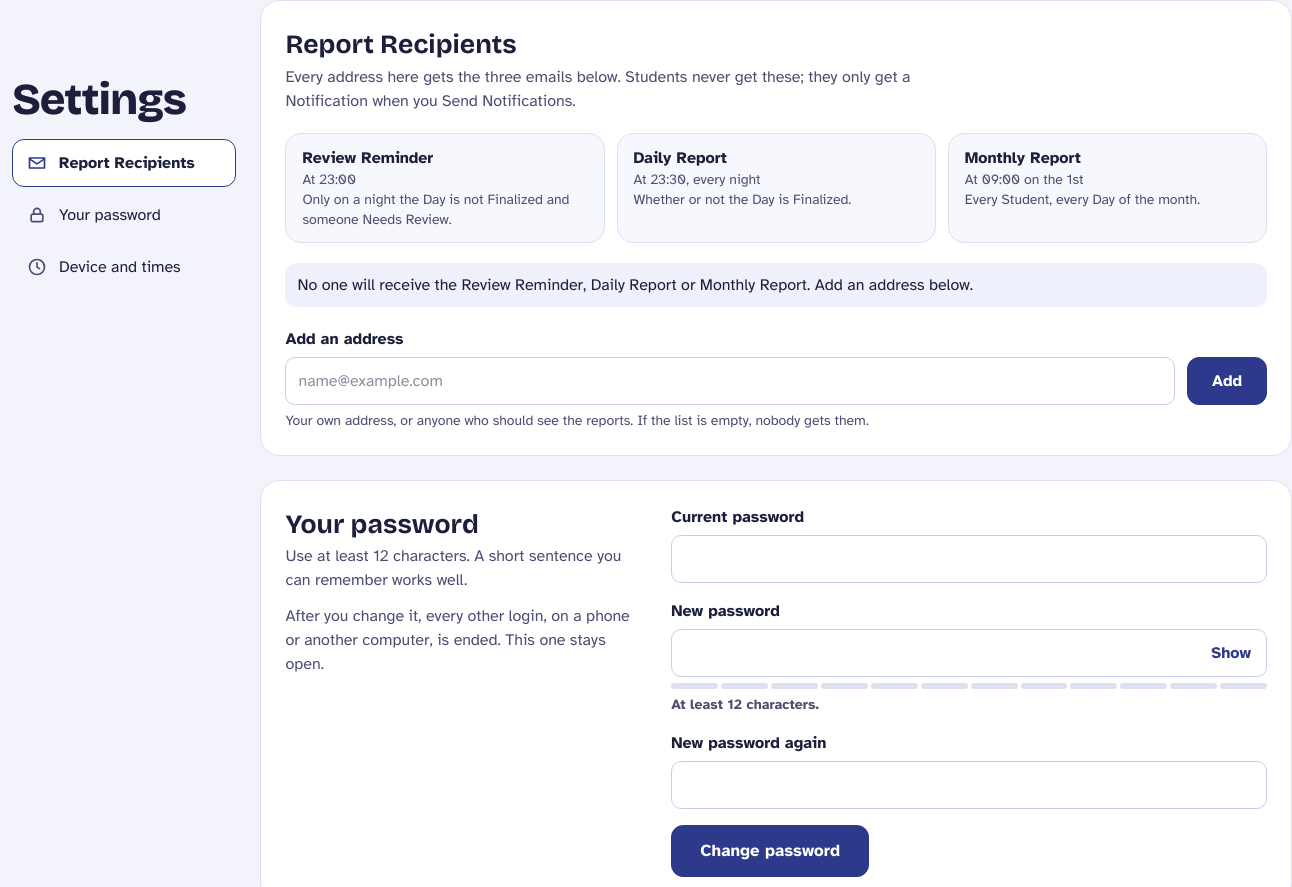
Test: Report Recipients › adds the address typed in, then clears the box
Expected: the text "No one will receive the Review Reminder, Daily Report or Monthly Report. Add an address below." is shown, [297,275,973,295]
Type "office@example.com" into the field labelled "Add an address" at (730, 381), box [285,357,1175,405]
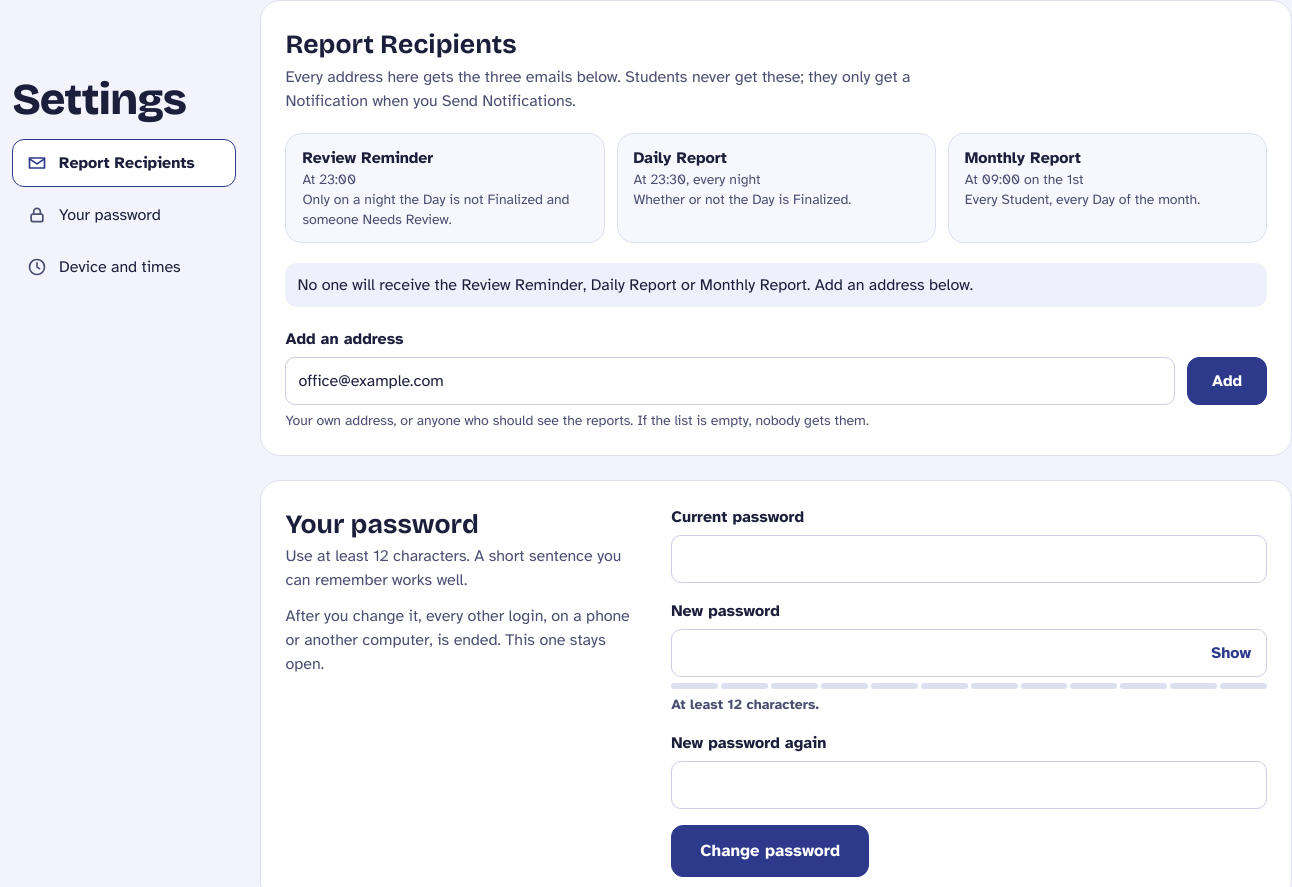
Click the button "Add" at (1227, 381), box [1187,357,1267,405]
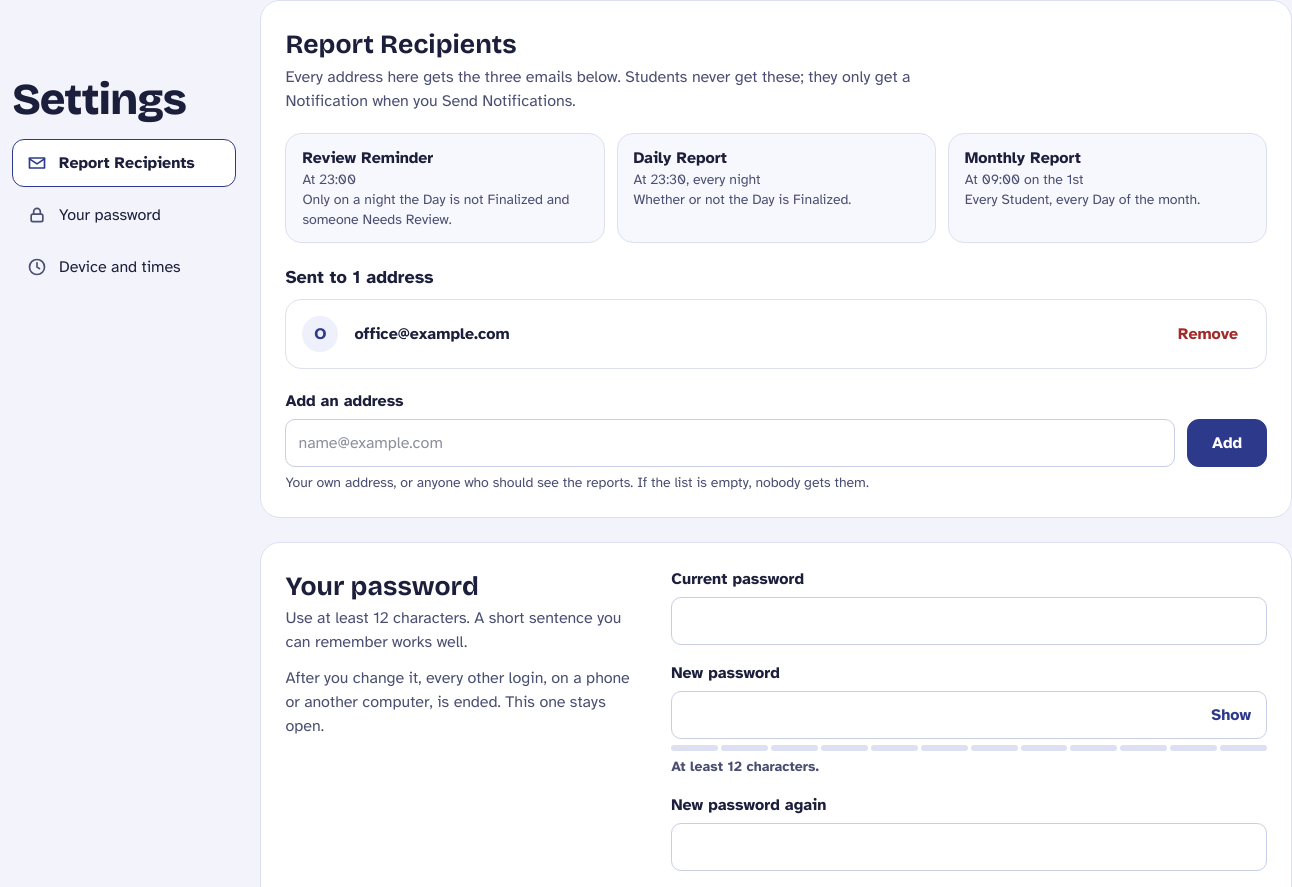
Now the text "office@example.com" is shown, box [354,324,510,344]
Now the field labelled "Add an address" is empty, box [285,419,1175,467]
